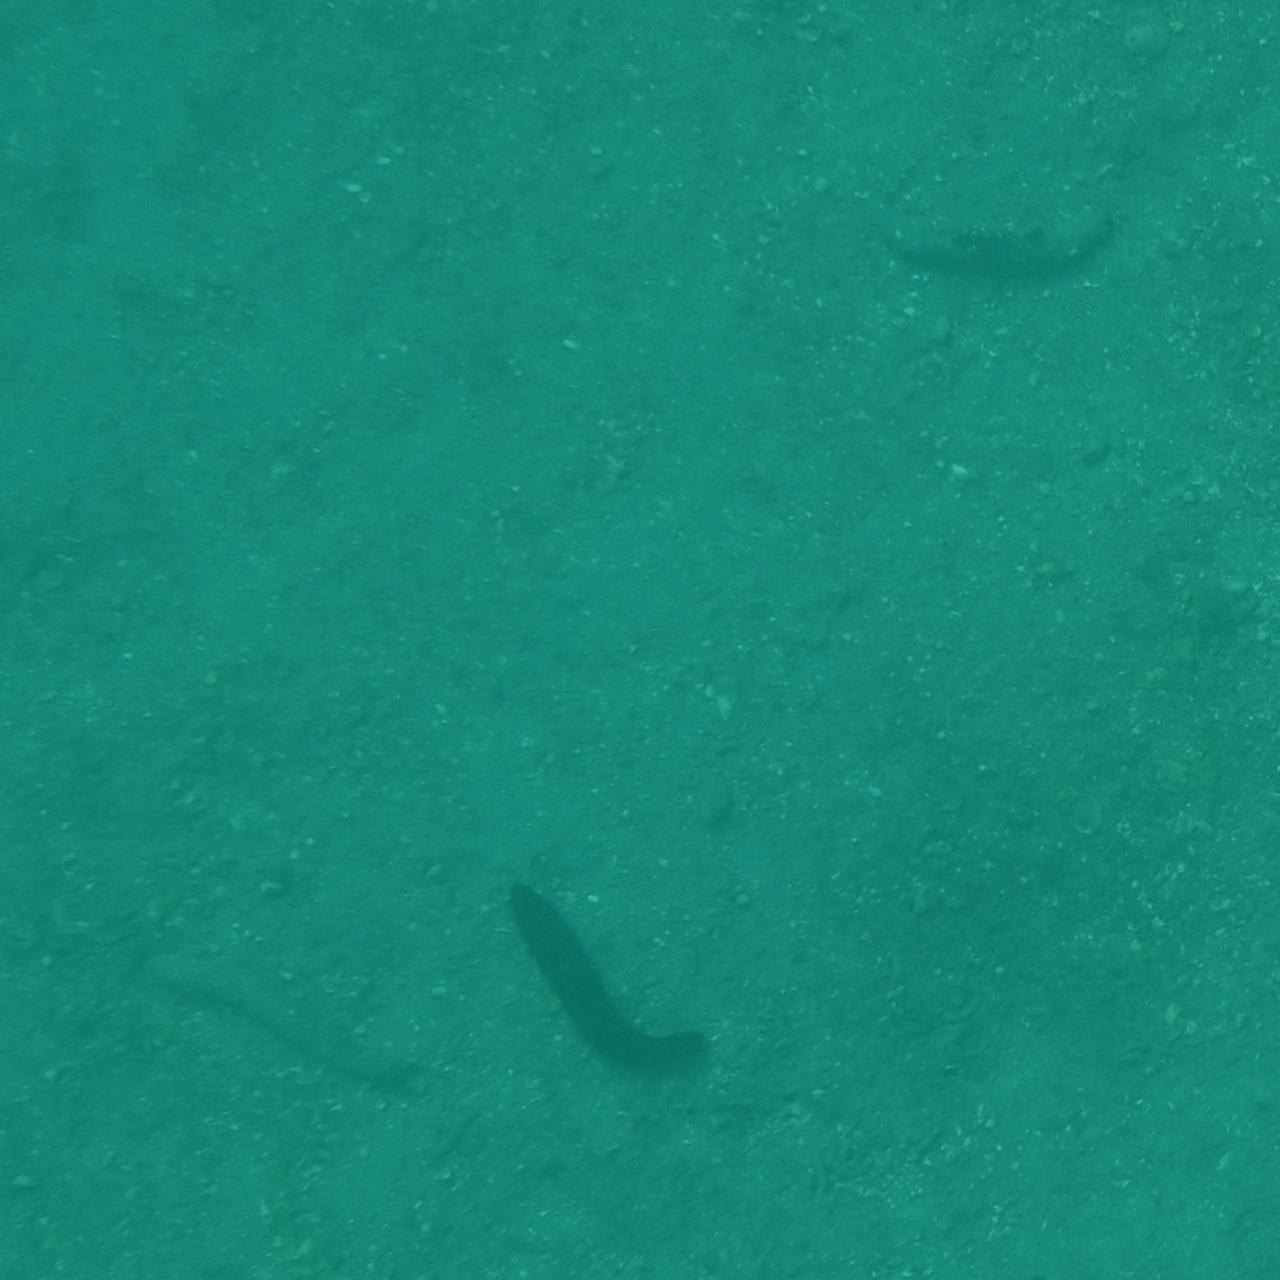Holothuria tubulosa: (484, 874, 729, 1091), (107, 955, 437, 1099), (881, 206, 1137, 300)
